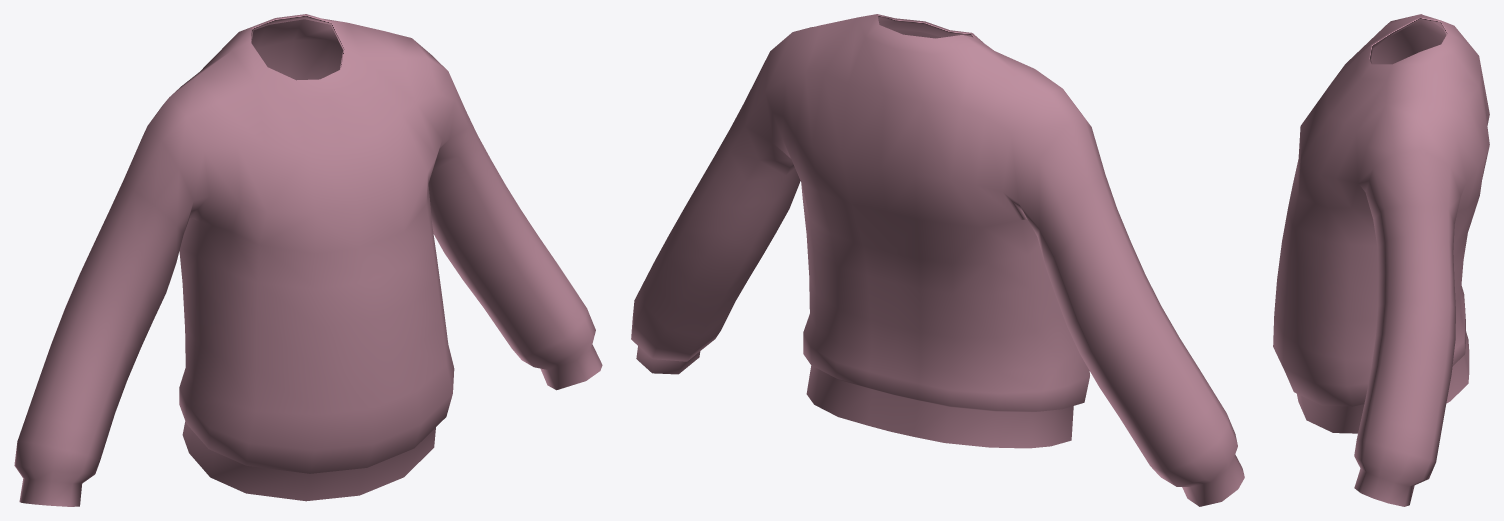
Rendered from simple_sleeve.fbx.
The picture shows the model from 3 angles, left to right: view 1: azimuth 30°, elevation 25°; view 2: azimuth 150°, elevation 25°; view 3: azimuth 270°, elevation 25°; orthographic projection. The views are drawn at different scales.
Visible parts, largest first — view 1: LongsleeveThickSweater; view 2: LongsleeveThickSweater; view 3: LongsleeveThickSweater.
Part boxes in pixels (<box>): LongsleeveThickSweater: <box>14,14,602,506</box>; LongsleeveThickSweater: <box>631,14,1244,506</box>; LongsleeveThickSweater: <box>1273,14,1489,506</box>.
Size of the model in its own units: 93.16 by 64.41 by 34.26.
